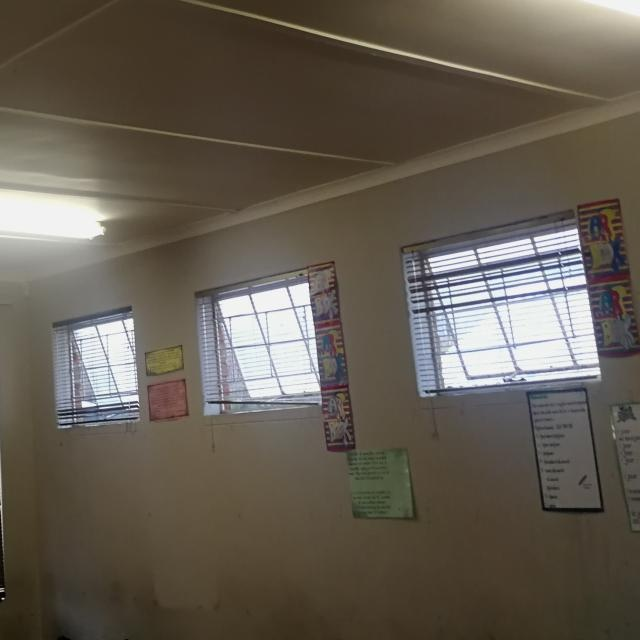fluorescent tube: (482, 0, 640, 108), (0, 184, 126, 284)
